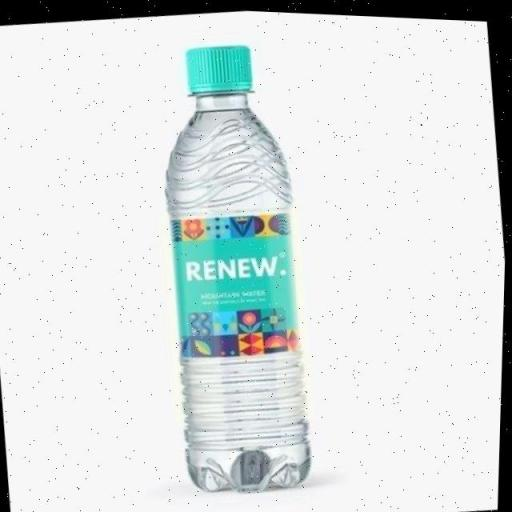plastic: (139, 30, 333, 502)
